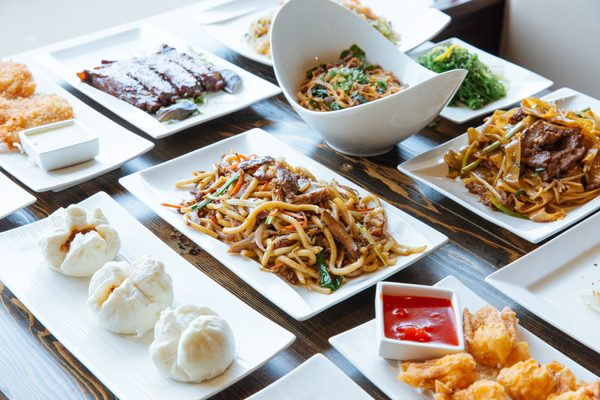pasta: (149, 303, 236, 383)
sandwich: (0, 277, 116, 398)
sushi: (271, 0, 467, 156), (376, 280, 463, 362)
